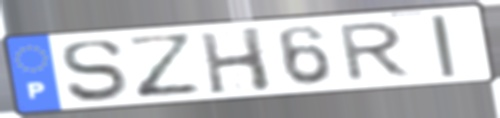6: (275, 24, 334, 88)
H: (196, 25, 276, 96)
I: (426, 12, 460, 80)
R: (337, 19, 415, 84)
S: (58, 37, 129, 105)
Z: (122, 31, 207, 101)
